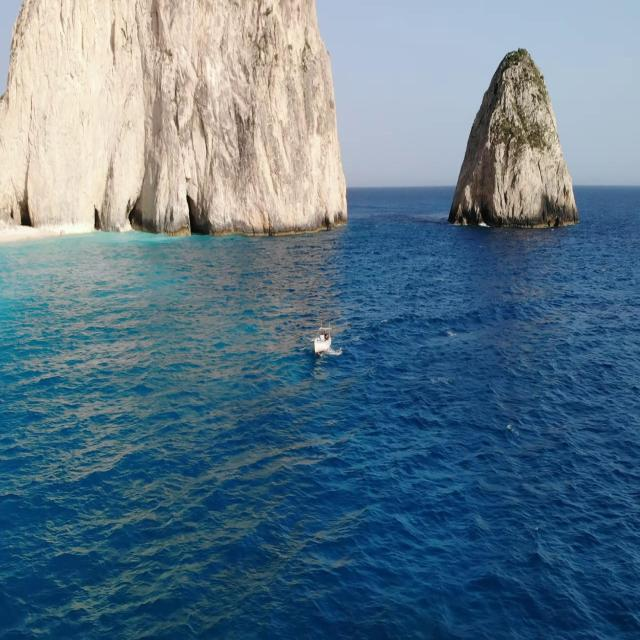boat: (308, 320, 334, 360)
